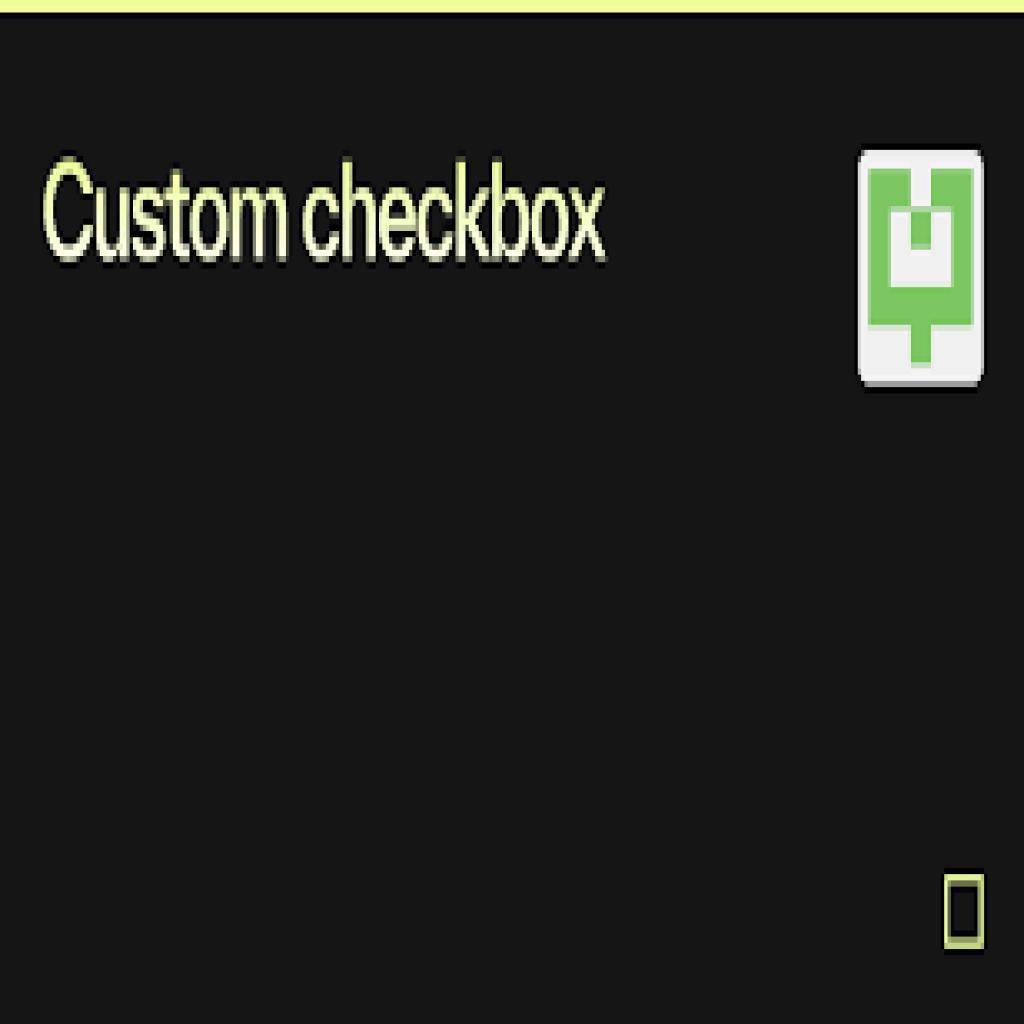checkbox: (942, 876, 985, 955)
label: (43, 143, 612, 279)
